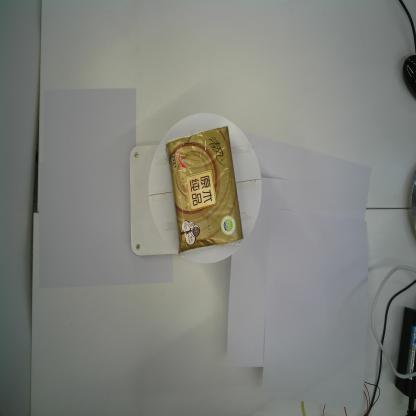Tissue: (165, 126, 244, 255)
